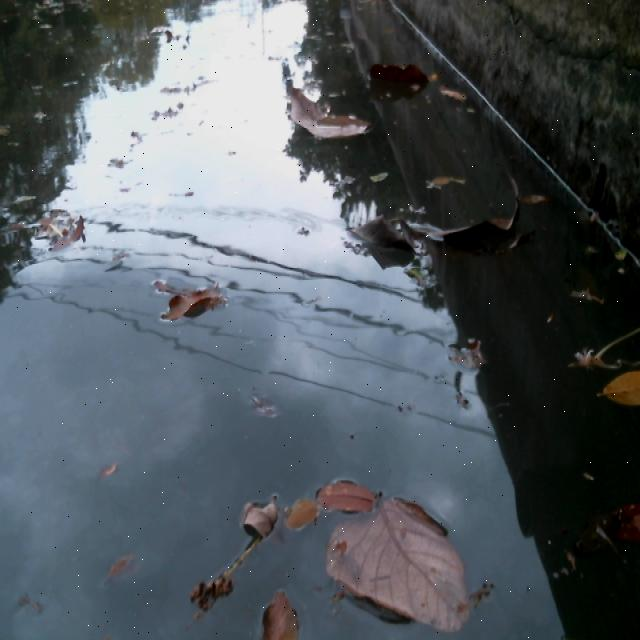Big-leaf: (326, 493, 485, 640), (403, 194, 535, 256), (285, 81, 375, 137), (340, 211, 418, 265), (364, 54, 445, 93)
Small-leaf: (245, 586, 313, 640), (161, 281, 232, 327), (232, 492, 280, 545), (597, 491, 640, 541), (592, 367, 640, 411), (322, 474, 384, 508), (500, 169, 549, 211), (98, 541, 141, 584), (245, 385, 285, 431), (452, 328, 489, 373), (282, 498, 323, 530), (571, 279, 607, 310), (93, 454, 123, 483), (67, 212, 92, 243), (30, 206, 58, 230), (423, 173, 465, 188), (49, 232, 73, 256), (441, 87, 471, 102), (365, 167, 390, 183)
